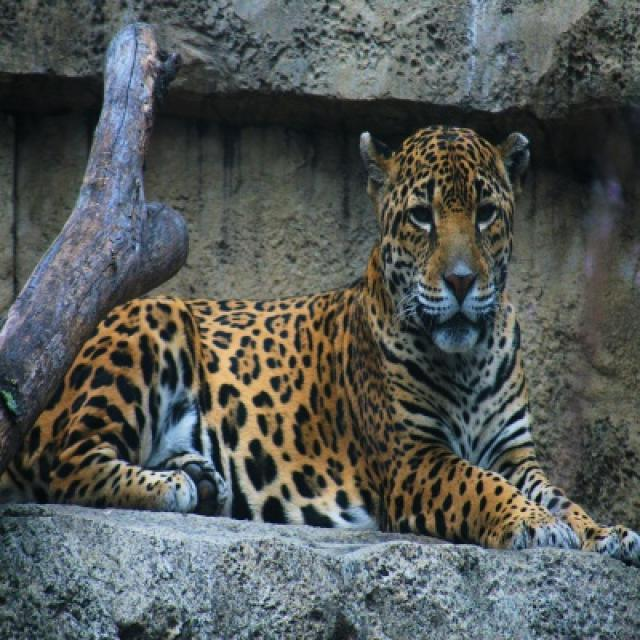not_pig: (0, 121, 638, 564)
